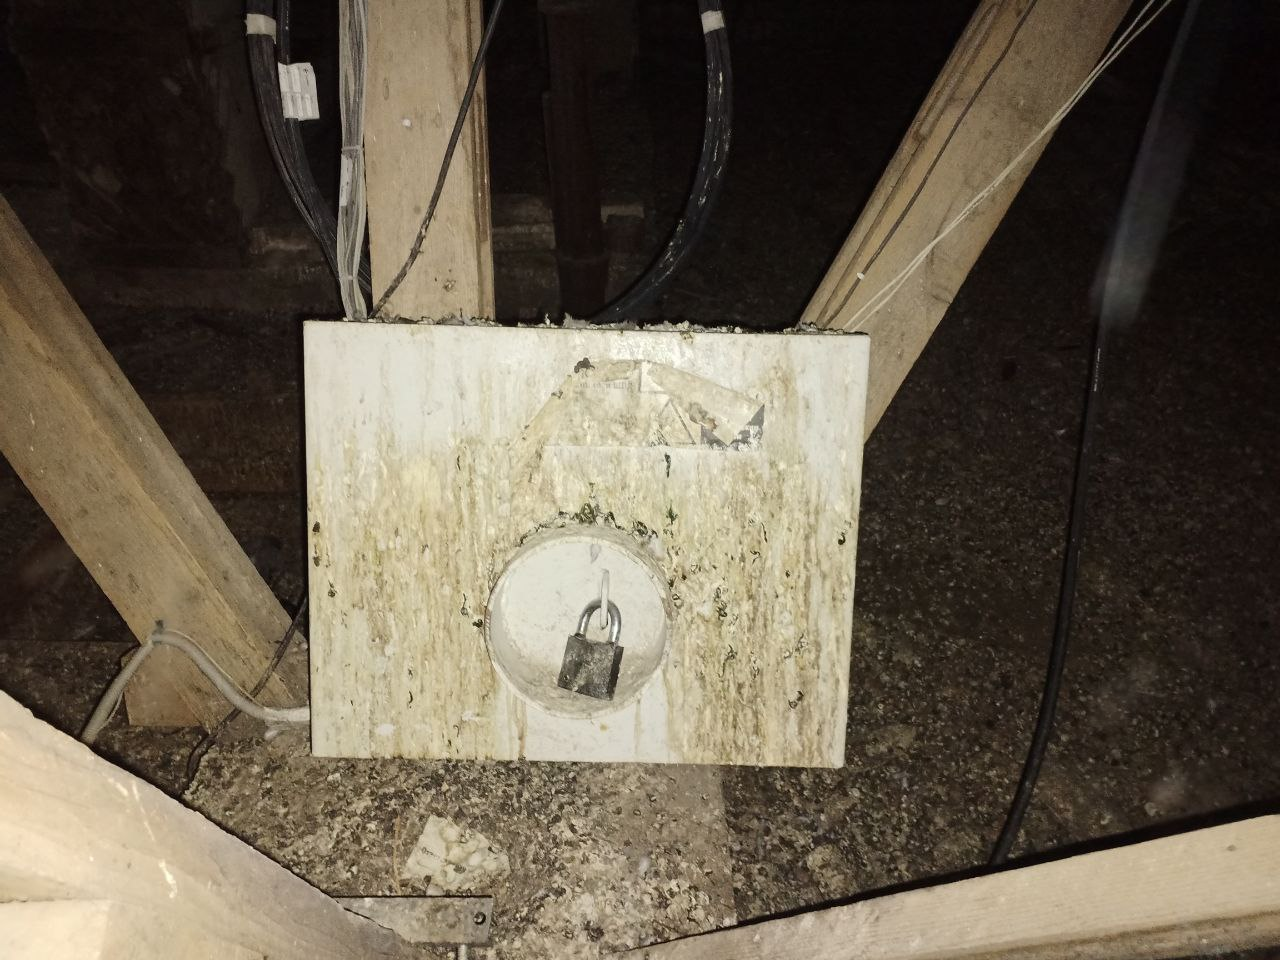shta-3: (297, 317, 868, 770)
